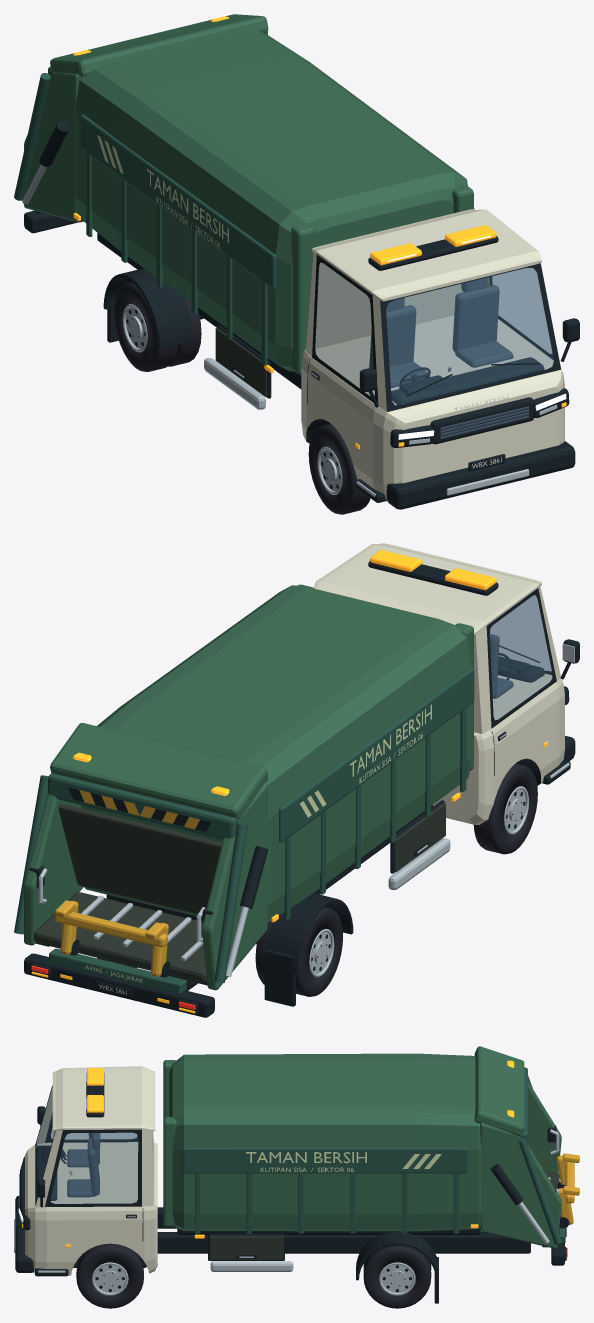
3 views of the same model, one above another, from view 1: azimuth 30°, elevation 25°; view 2: azimuth 150°, elevation 25°; view 3: azimuth 270°, elevation 25° (orthographic). The views are drawn at different scales.
Visible parts, largest first — view 1: Taman Bersih Rear Loader; view 2: Taman Bersih Rear Loader; view 3: Taman Bersih Rear Loader.
Part boxes in pixels (x1,y1,x2,y2): Taman Bersih Rear Loader: (14, 14, 579, 514); Taman Bersih Rear Loader: (14, 543, 579, 1017); Taman Bersih Rear Loader: (14, 1046, 579, 1308).
Bounding box in the file's own units: 2.69 × 3.16 × 8.22.
